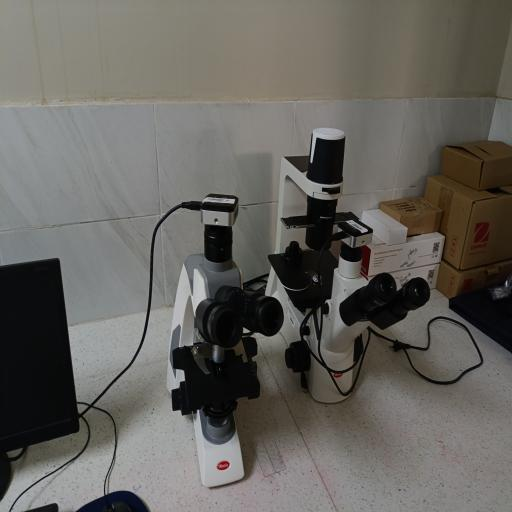Microscopio_camara: (265, 119, 433, 416), (167, 182, 283, 493)
